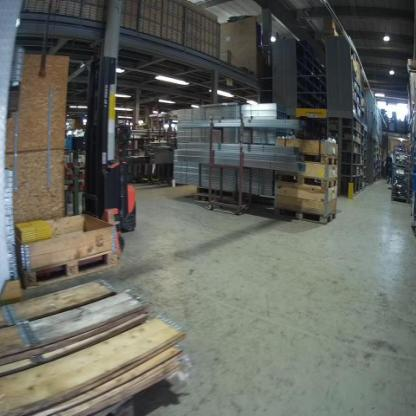pallet: (23, 249, 119, 289), (274, 206, 337, 225), (275, 173, 338, 189), (301, 152, 338, 166)
pallet_truck: (67, 50, 147, 231), (88, 122, 134, 264)
stillage: (387, 170, 414, 207), (390, 138, 411, 168)
